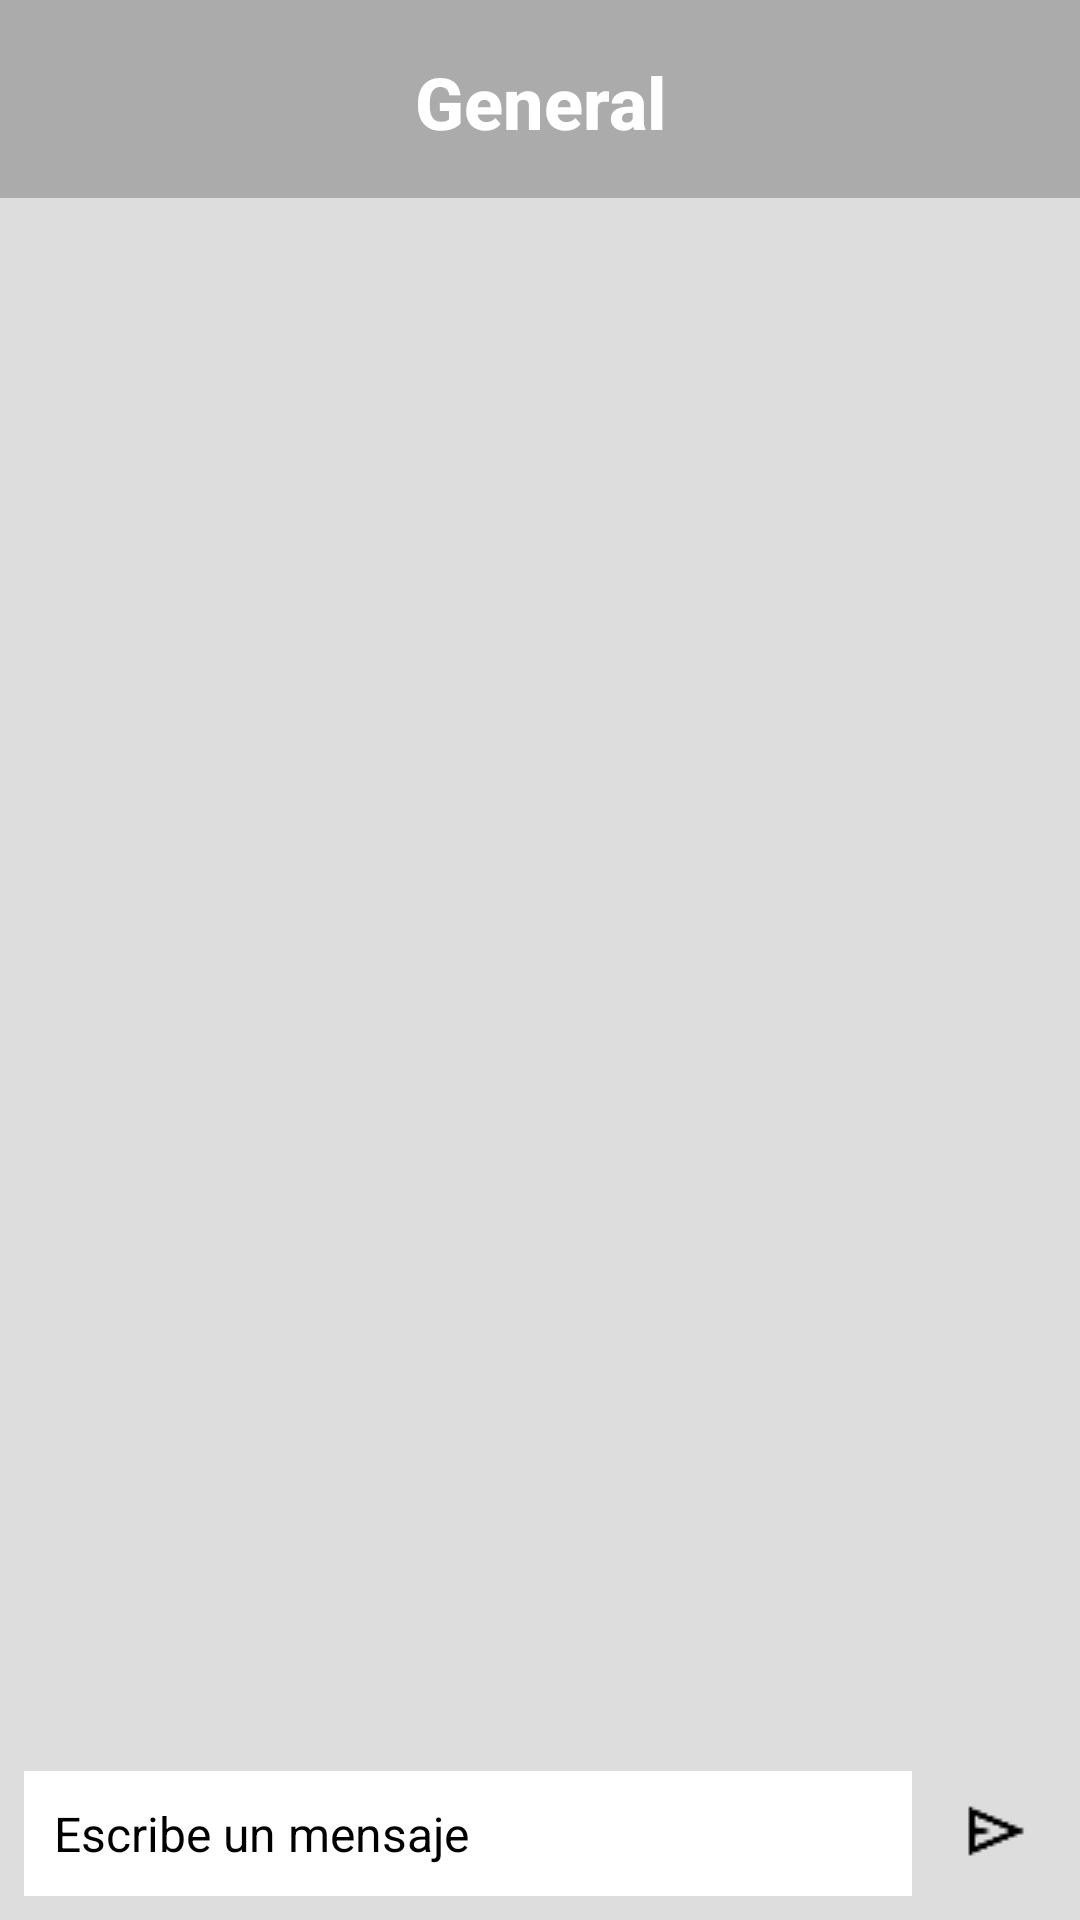

Where to tap for icons on this 1080*1920 app screen, as (x=x, y=y):
Enviar mensaje: (x=996, y=1831)
